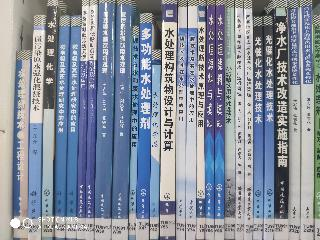book-spine: (96, 2, 114, 240), (113, 1, 130, 239), (161, 1, 176, 239), (28, 16, 44, 239), (42, 1, 57, 238), (136, 14, 151, 239), (66, 17, 81, 239), (55, 17, 69, 238), (300, 2, 313, 238), (275, 1, 287, 240), (15, 51, 29, 239), (186, 2, 197, 239), (288, 2, 299, 239), (78, 2, 88, 239), (215, 1, 225, 238), (128, 26, 139, 240), (87, 2, 96, 239), (224, 1, 233, 237), (264, 18, 273, 239), (177, 2, 185, 239), (254, 18, 262, 239), (236, 1, 243, 239), (245, 2, 252, 239), (197, 2, 204, 238), (151, 50, 159, 238), (207, 2, 213, 239)
